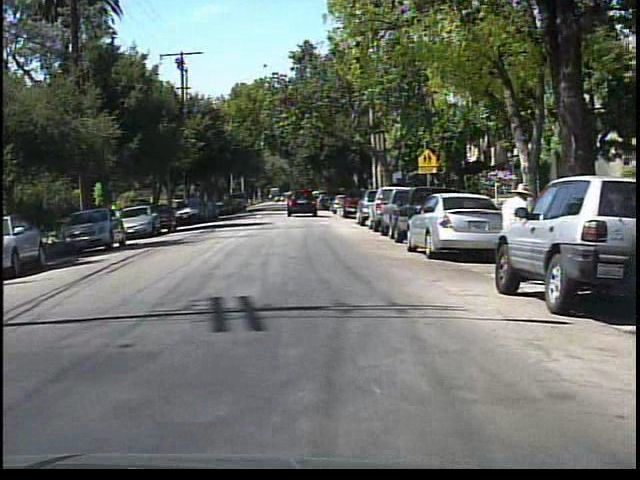person: (492, 178, 535, 293)
